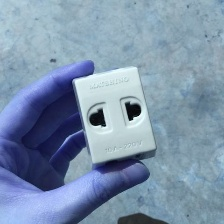three_eye_plug: (68, 62, 159, 172)
